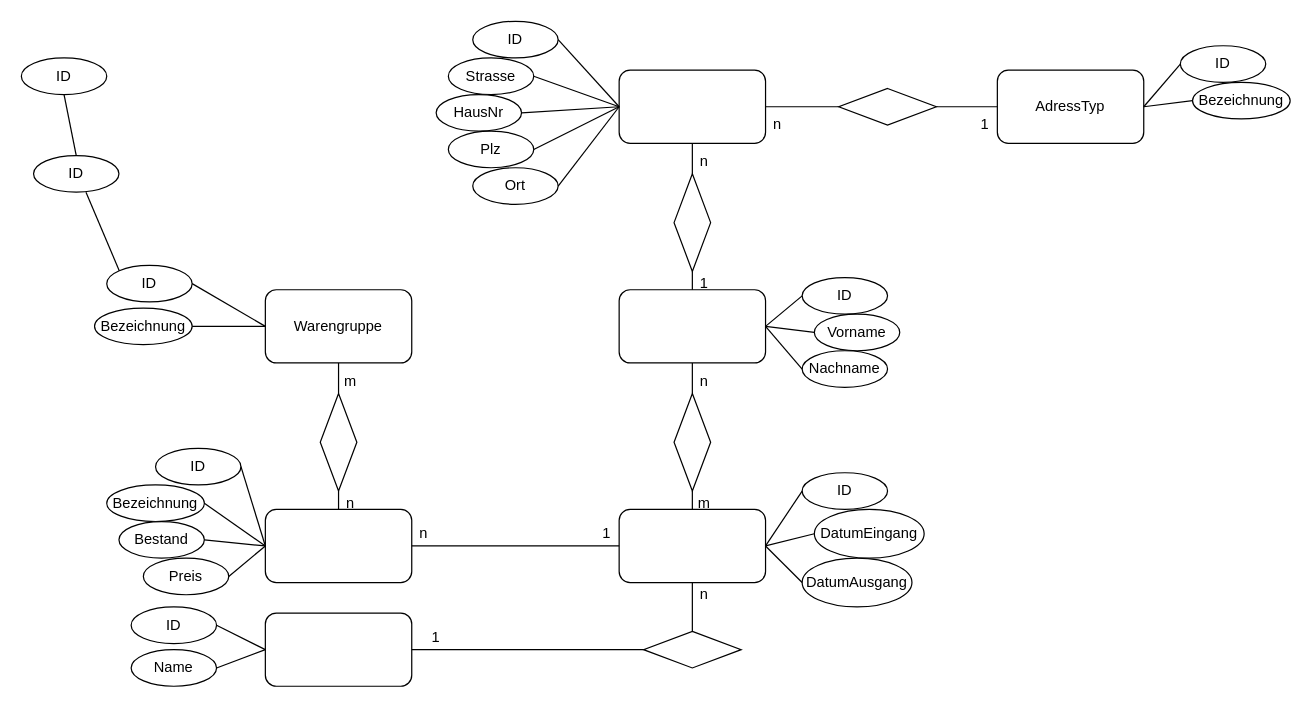
Image size: 1312x708. Some labels were removed from this diagram. The centre of each missing label's shape, as x and y in pixels:
"Adresse" belongs at point (692, 106).
"Bestellung" belongs at point (692, 545).
"Kunde" belongs at point (692, 326).
"Kurierdienst" belongs at point (338, 649).
"Ware" belongs at point (338, 545).
